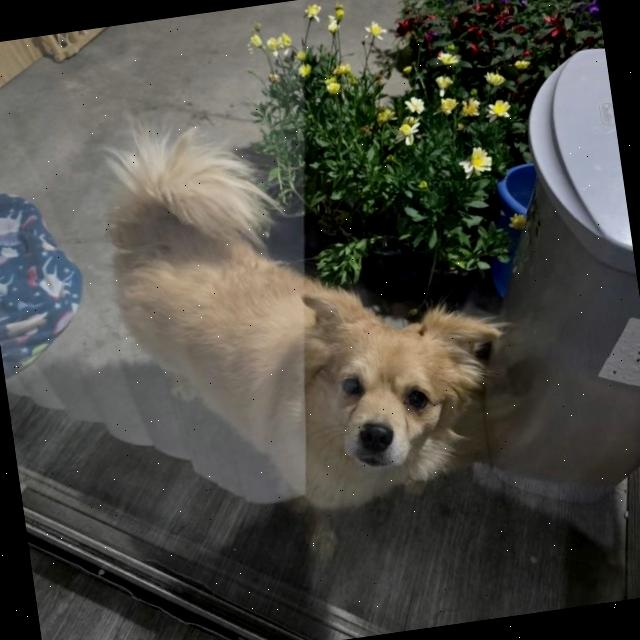pomeranian_dog: (227, 244, 533, 538)
